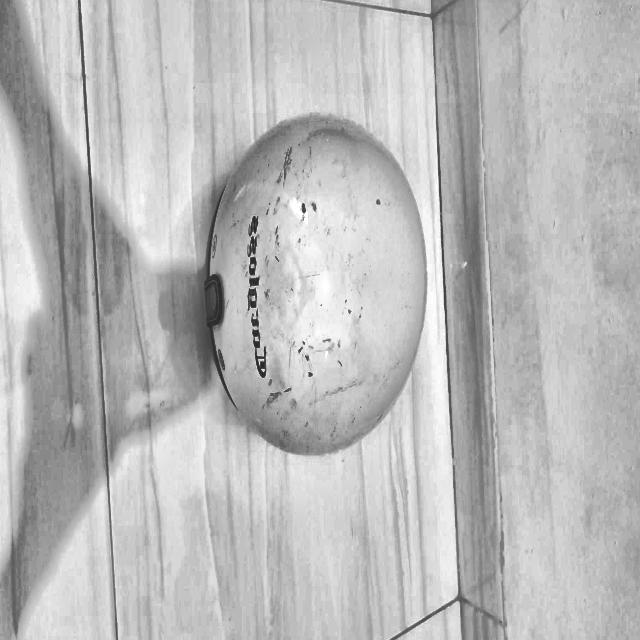Helmet: (359, 374, 570, 640)
